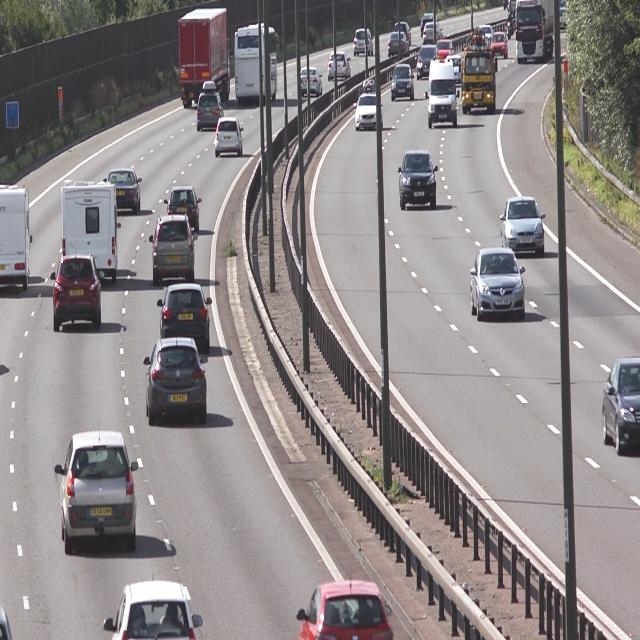Vehicle: (55, 428, 142, 548), (56, 173, 121, 285), (137, 334, 210, 428), (178, 5, 232, 109), (48, 254, 106, 336), (599, 354, 640, 455), (471, 246, 526, 318), (157, 280, 212, 350), (235, 24, 282, 104), (147, 216, 197, 284), (460, 34, 498, 116), (395, 149, 441, 209), (502, 196, 547, 256), (162, 178, 204, 235), (516, 4, 557, 62), (428, 56, 460, 128), (195, 79, 226, 137), (354, 76, 384, 130), (107, 166, 142, 211), (215, 116, 246, 159), (415, 41, 438, 84), (391, 60, 415, 101), (298, 61, 323, 98), (328, 50, 351, 80), (354, 26, 374, 55), (492, 30, 509, 60)
